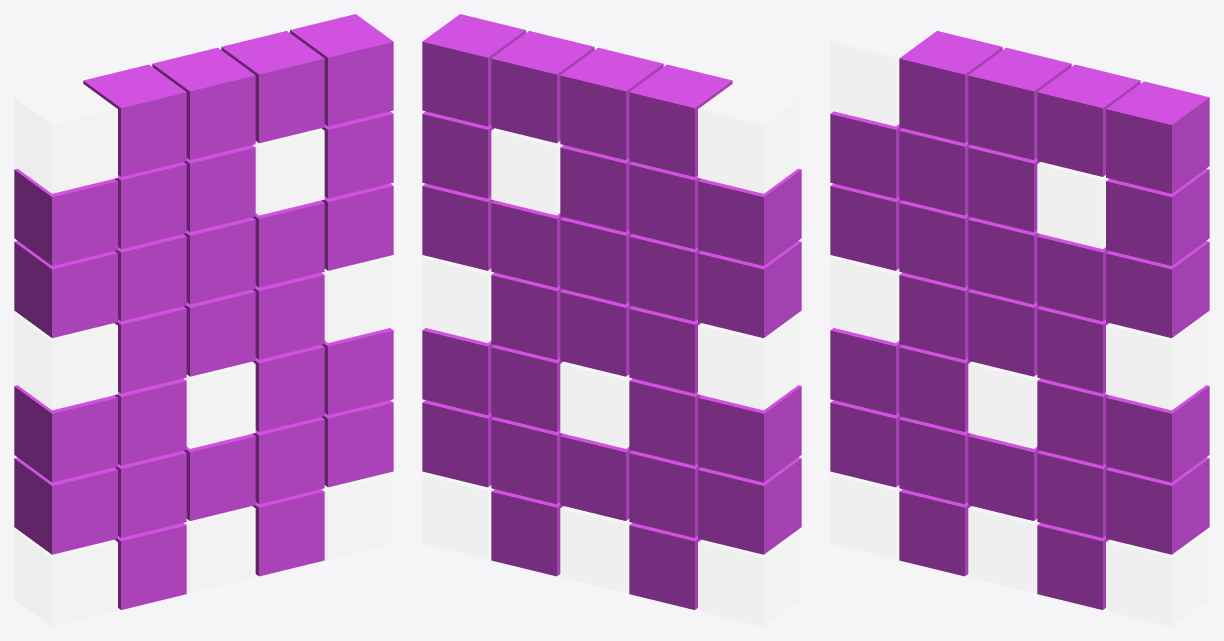
File: testing-bake.glb
3 renders of one model, left to right at view 1: azimuth 30°, elevation 25°; view 2: azimuth 150°, elevation 25°; view 3: azimuth 330°, elevation 25°, orthographic.
Parts seen in each view (by area): view 1: Cube.014, Cube.019, Cube.034, Cube.004, Cube.025, Cube.013, Cube.030, Cube.032, Cube.002; view 2: Cube.014, Cube.019, Cube.034, Cube.004, Cube.025, Cube.013, Cube.030, Cube.032, Cube.002; view 3: Cube.014, Cube.032, Cube.002, Cube.019, Cube.025, Cube.030, Cube.034, Cube.004, Cube.013.
Part boxes in pixels (x1=…): Cube.014: x1=14, y1=14, x2=393, y2=609; Cube.019: x1=14, y1=81, x2=117, y2=193; Cube.034: x1=14, y1=529, x2=117, y2=626; Cube.004: x1=14, y1=313, x2=117, y2=410; Cube.025: x1=183, y1=361, x2=255, y2=448; Cube.013: x1=252, y1=128, x2=324, y2=215; Cube.030: x1=183, y1=506, x2=255, y2=593; Cube.032: x1=321, y1=472, x2=393, y2=559; Cube.002: x1=321, y1=256, x2=393, y2=342; Cube.014: x1=422, y1=14, x2=801, y2=609; Cube.019: x1=698, y1=81, x2=801, y2=193; Cube.034: x1=698, y1=529, x2=801, y2=626; Cube.004: x1=698, y1=313, x2=801, y2=410; Cube.025: x1=560, y1=361, x2=632, y2=448; Cube.013: x1=491, y1=128, x2=563, y2=215; Cube.030: x1=560, y1=506, x2=632, y2=593; Cube.032: x1=422, y1=472, x2=494, y2=559; Cube.002: x1=422, y1=256, x2=494, y2=342; Cube.014: x1=830, y1=31, x2=1209, y2=609; Cube.032: x1=1106, y1=529, x2=1209, y2=626; Cube.002: x1=1106, y1=313, x2=1209, y2=410; Cube.019: x1=830, y1=14, x2=933, y2=126; Cube.025: x1=968, y1=361, x2=1040, y2=448; Cube.030: x1=968, y1=506, x2=1040, y2=593; Cube.034: x1=830, y1=472, x2=902, y2=559; Cube.004: x1=830, y1=256, x2=902, y2=342; Cube.013: x1=1037, y1=162, x2=1108, y2=248.
Bounding box in the file's own units: 10.4 × 14.6 × 2.
